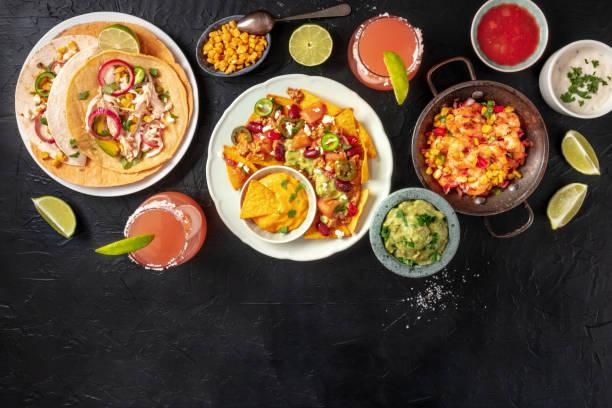Braised Crucian Carp: (205, 71, 391, 261), (16, 10, 199, 199), (409, 75, 548, 220)
